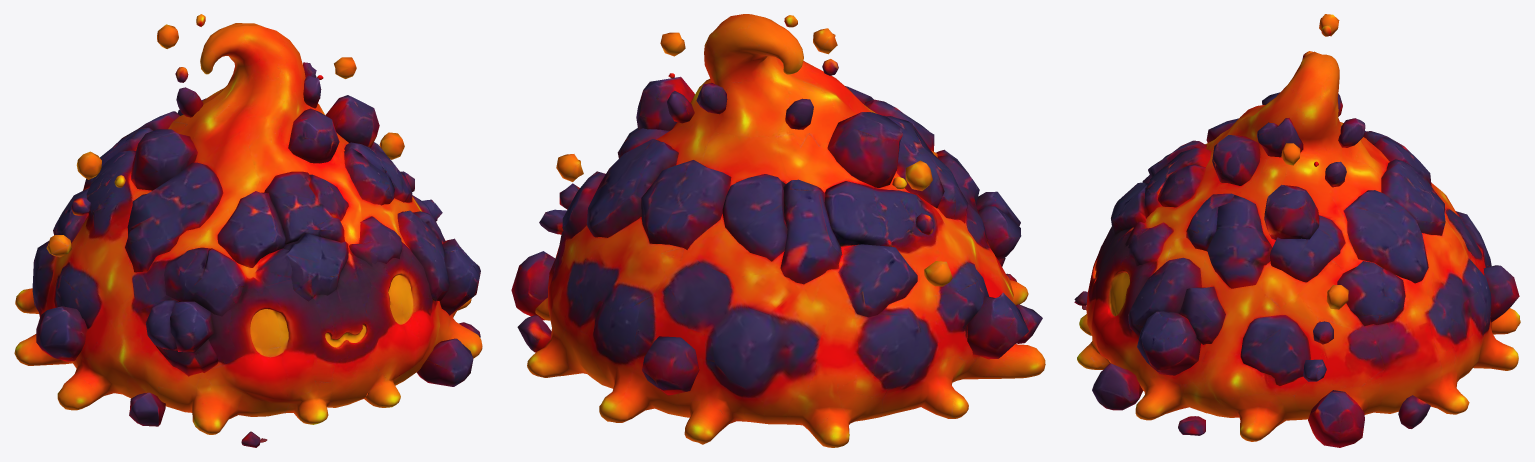
Rendered from pet-ember-lava.glb.
The picture shows the model from 3 angles, left to right: view 1: azimuth 30°, elevation 25°; view 2: azimuth 150°, elevation 25°; view 3: azimuth 270°, elevation 25°; orthographic projection. The views are drawn at different scales.
Visible parts, largest first — view 1: geometry_0; view 2: geometry_0; view 3: geometry_0.
Boxes of the visible parts, x1=… form: geometry_0: x1=14, y1=14, x2=482, y2=447; geometry_0: x1=511, y1=14, x2=1045, y2=447; geometry_0: x1=1074, y1=14, x2=1520, y2=447.
Size of the model in its own units: 0.9575 by 0.6816 by 0.8819.
Materials: 1 (1 with a texture image).
